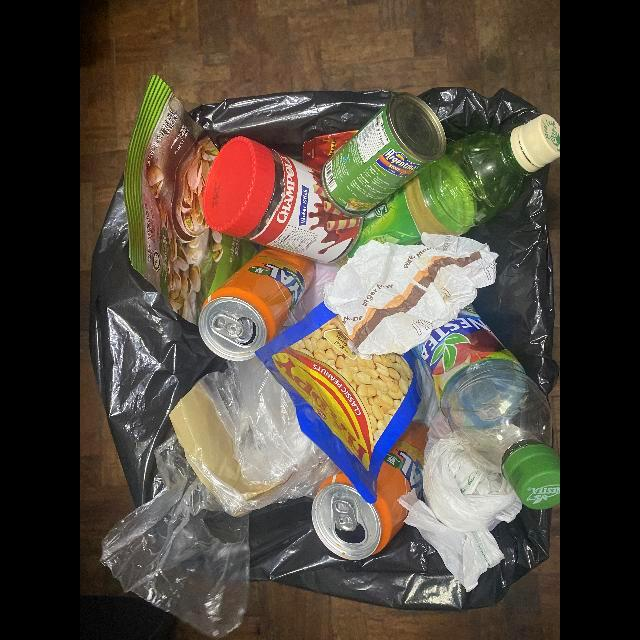aluminum: (311, 422, 429, 561), (321, 93, 447, 217), (198, 249, 316, 362)
food_wrapper: (124, 75, 266, 327), (255, 303, 423, 505), (302, 130, 360, 181)
paper: (324, 233, 499, 361)
plastic_bag: (100, 358, 342, 639), (398, 411, 523, 593)
plastic_bottle: (337, 114, 560, 267), (411, 304, 560, 510)
plastic_container: (203, 137, 364, 264)
